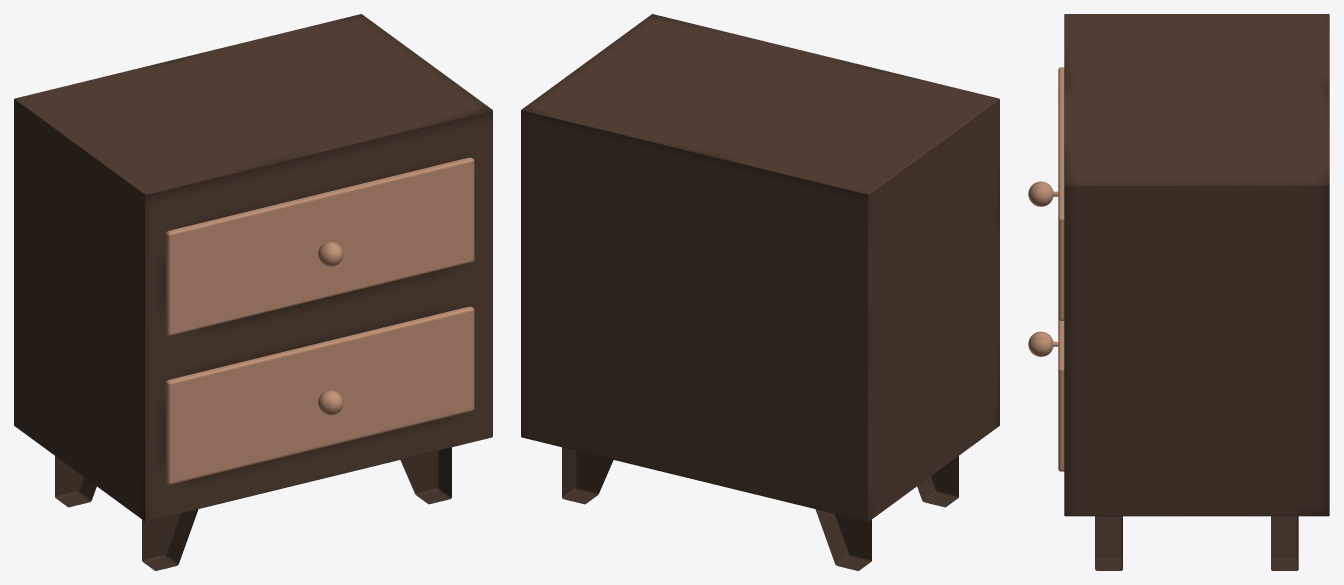
The model's file is NightStand.fbx.
3 renders of one model, left to right at view 1: azimuth 30°, elevation 25°; view 2: azimuth 150°, elevation 25°; view 3: azimuth 270°, elevation 25°, orthographic.
Visible parts, largest first — view 1: Nightstand, Shelf_upper, Shelf_lower, Leg; view 2: Nightstand, Leg; view 3: Nightstand, Leg, Shelf_upper, Shelf_lower.
Boxes of the visible parts, box(x1,y1,x2,y2) form: Nightstand: box(14, 14, 492, 521); Shelf_upper: box(165, 157, 474, 335); Shelf_lower: box(165, 306, 474, 484); Leg: box(55, 447, 451, 570); Nightstand: box(521, 14, 999, 521); Leg: box(562, 447, 958, 570); Nightstand: box(1064, 14, 1329, 516); Leg: box(1095, 516, 1298, 570); Shelf_upper: box(1028, 67, 1064, 320); Shelf_lower: box(1028, 319, 1064, 471).
Bounding box in the file's own units: 92.66 × 100 × 68.79.
Materials: 3 (3 with a texture image).
